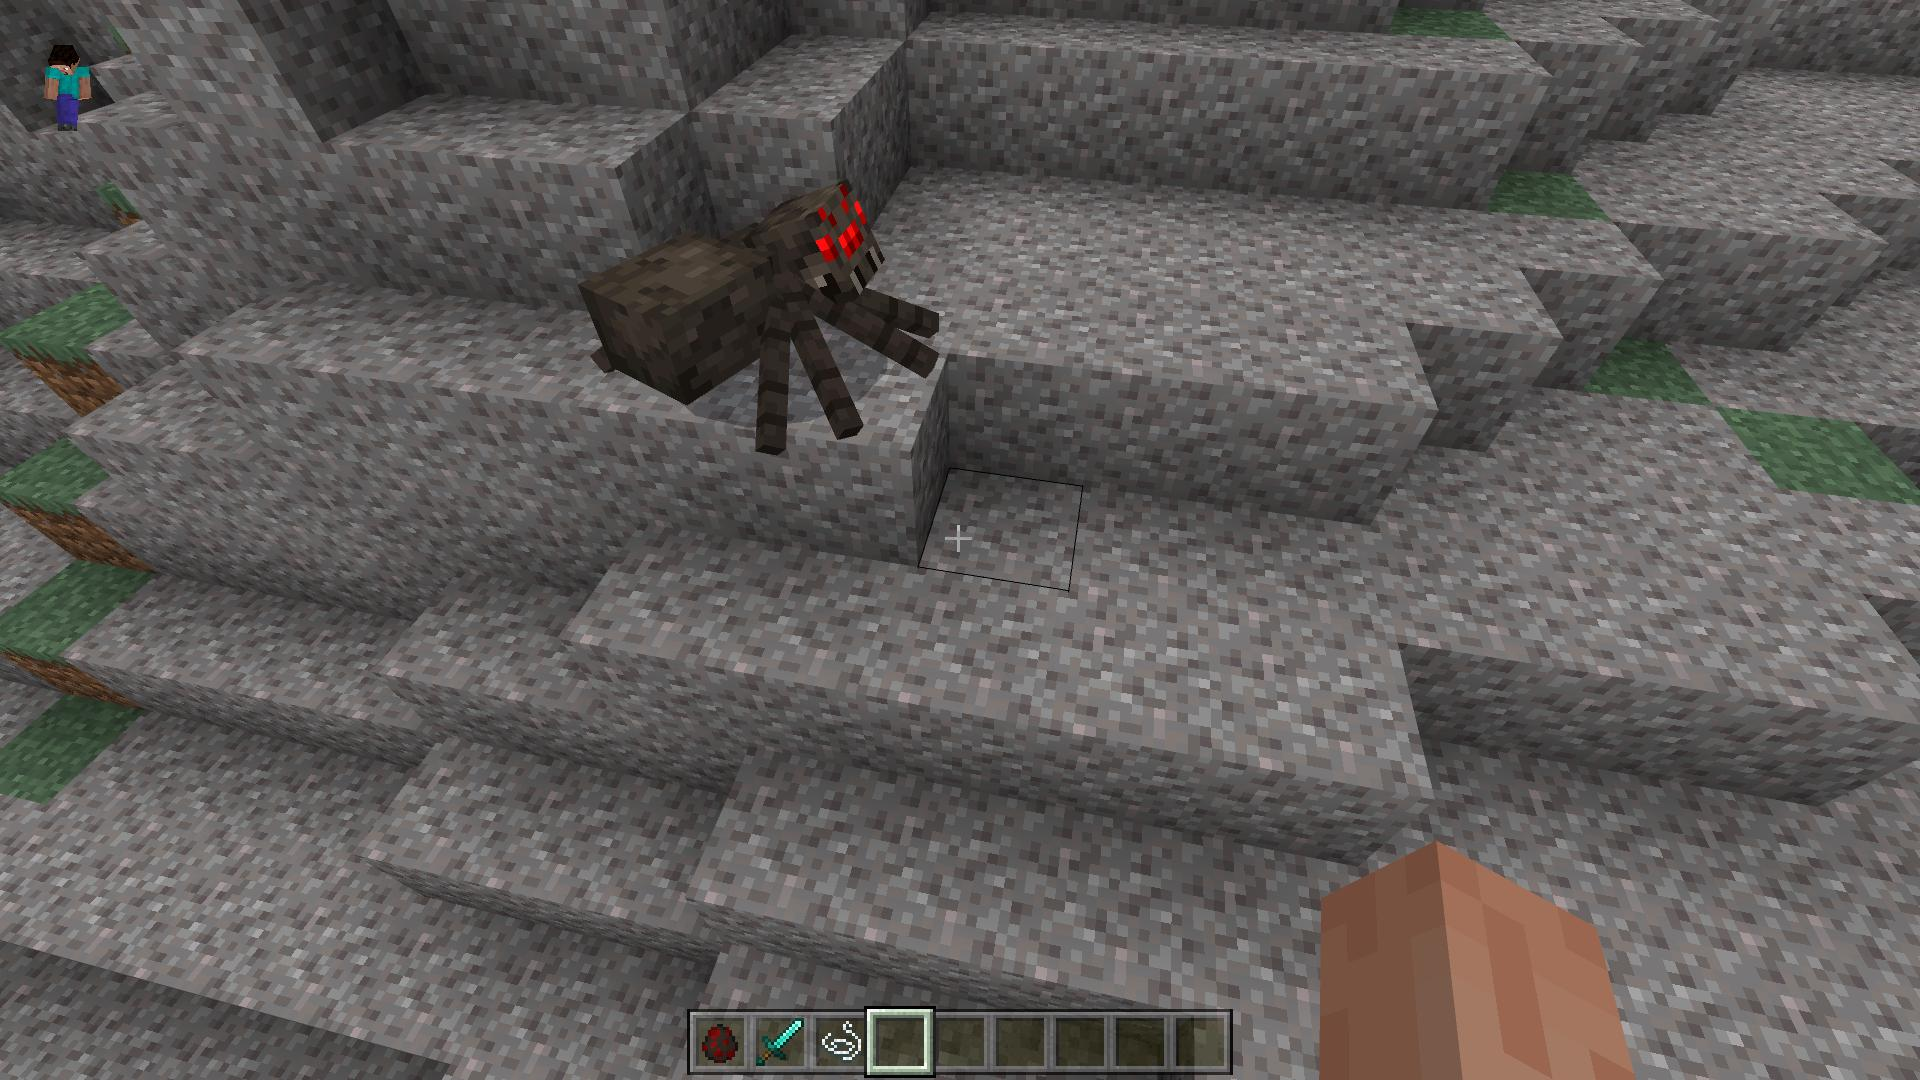spider: (580, 181, 940, 450)
